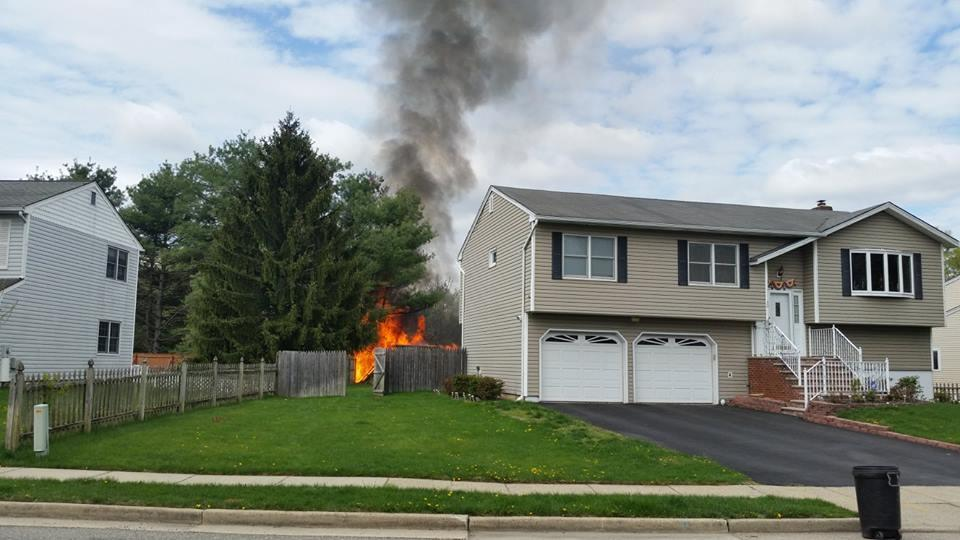fire: (354, 291, 404, 380), (405, 310, 430, 347), (438, 342, 459, 350)
smoke: (375, 0, 599, 191), (416, 192, 460, 285)
